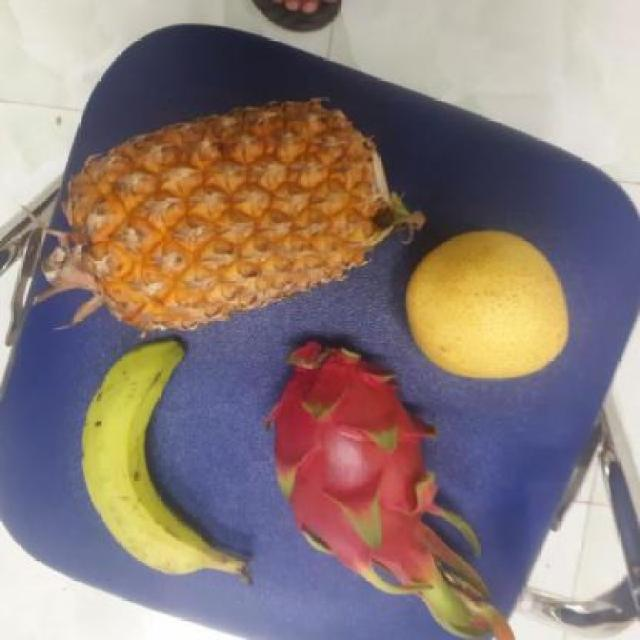banana: (78, 340, 242, 577)
dragon fruit: (256, 339, 456, 573)
pear: (394, 232, 574, 378)
pineapple: (50, 109, 399, 336)
